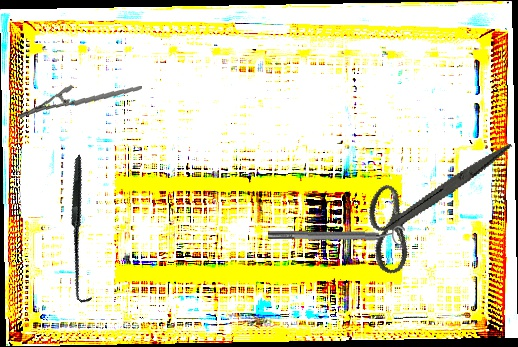Fixation Ring: (267, 222, 406, 248)
Hook Surgical: (7, 153, 158, 307)
Iris Scissors: (348, 104, 514, 299)
Needle Holder: (17, 73, 143, 132)
